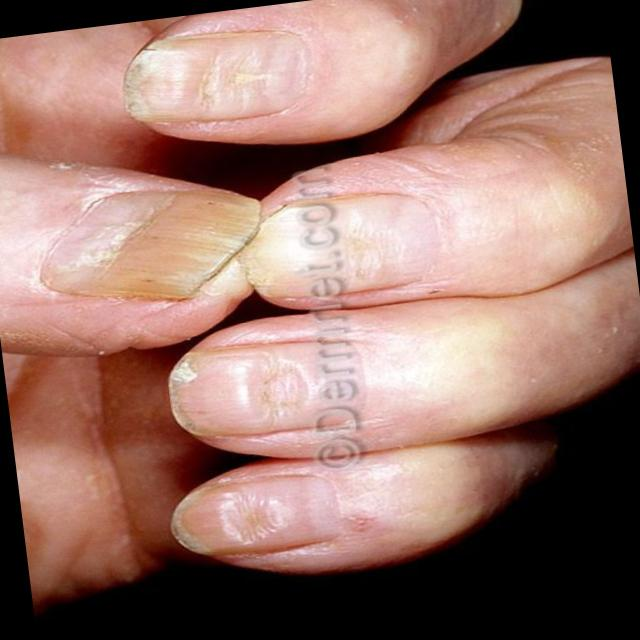Nail: (40, 189, 261, 300), (248, 192, 435, 297), (171, 336, 358, 434), (119, 25, 310, 120), (170, 472, 344, 554)
